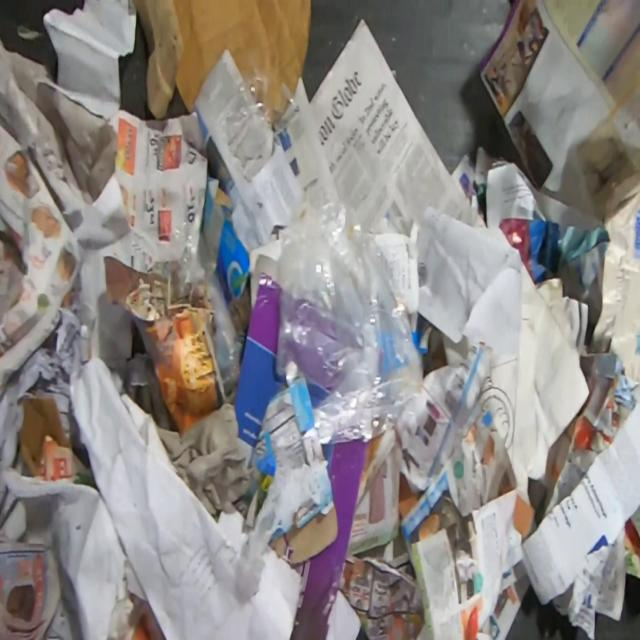cardboard: (130, 0, 312, 121), (103, 255, 224, 435), (251, 361, 339, 563), (280, 442, 366, 640), (235, 253, 288, 474), (201, 175, 250, 332), (15, 396, 71, 477), (307, 383, 327, 410)
rigid_plastic: (222, 57, 300, 164)
soft_plastic: (276, 177, 428, 444), (168, 221, 239, 395)
